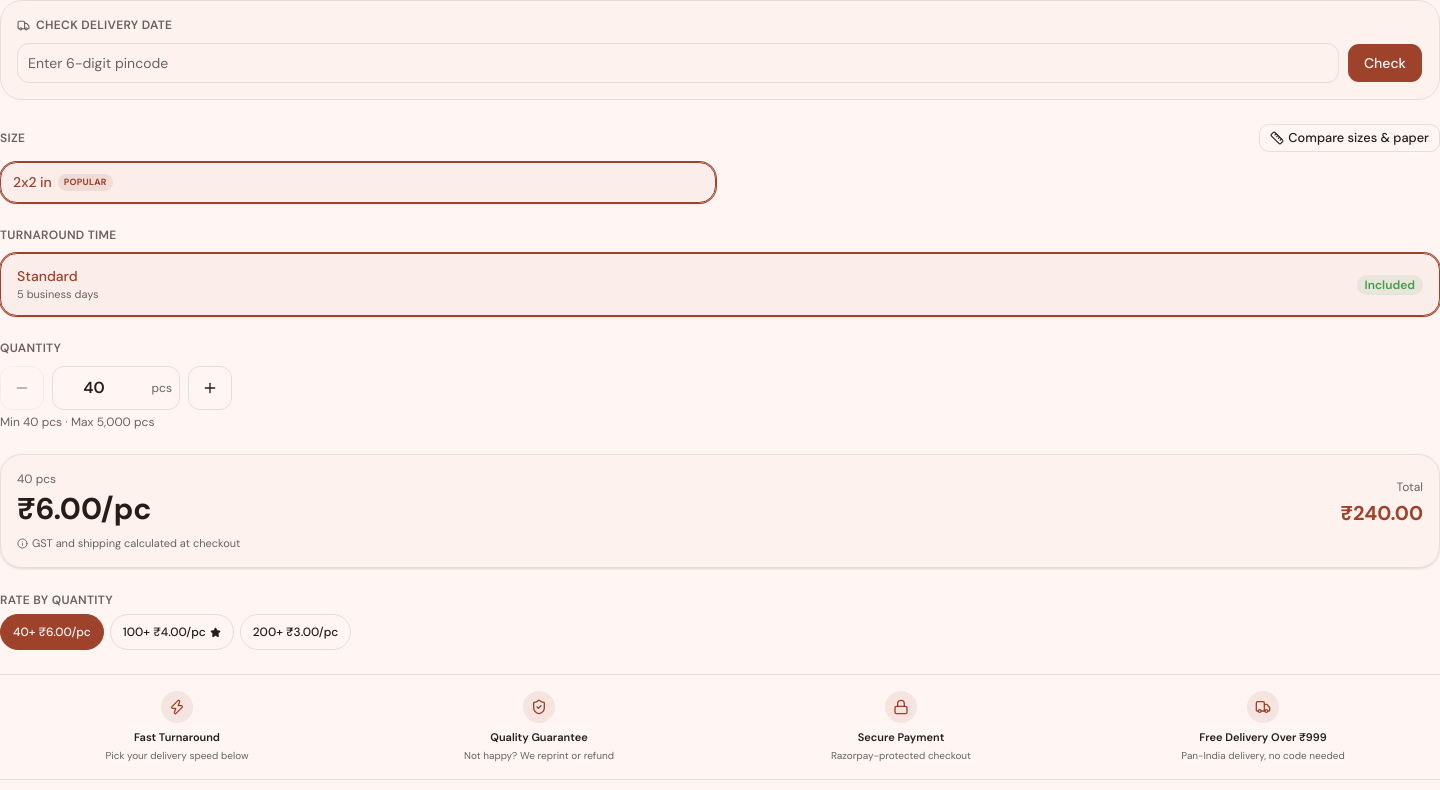
Test case: ProductConfigurator › follows the tier live and the nudge taps up to the next tier
Replace the text in the field named "Quantity" with "99". click: [116, 388]
box: [52,366,180,410]
Wait 150 ms
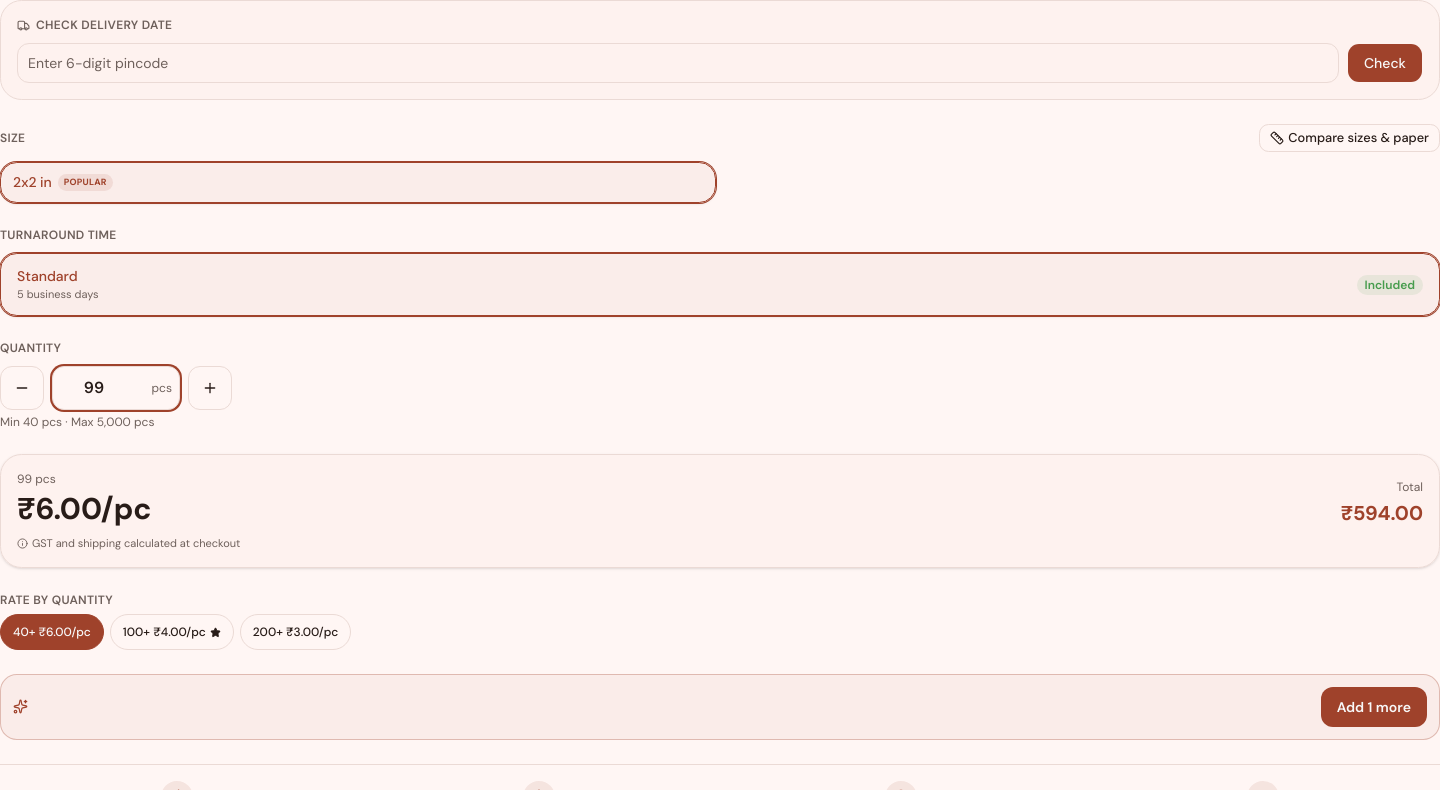
Check: the text "₹594.00" is shown, box [1341,499,1423,527]
Check: the text "Add 1 more pc and pay ₹4.00/pc: ₹400.00 total (you save ₹194.00)" is shown, box [13,697,469,717]
Click the button "Add 1 more". click: [1374, 707]
box: [1321,687,1427,727]
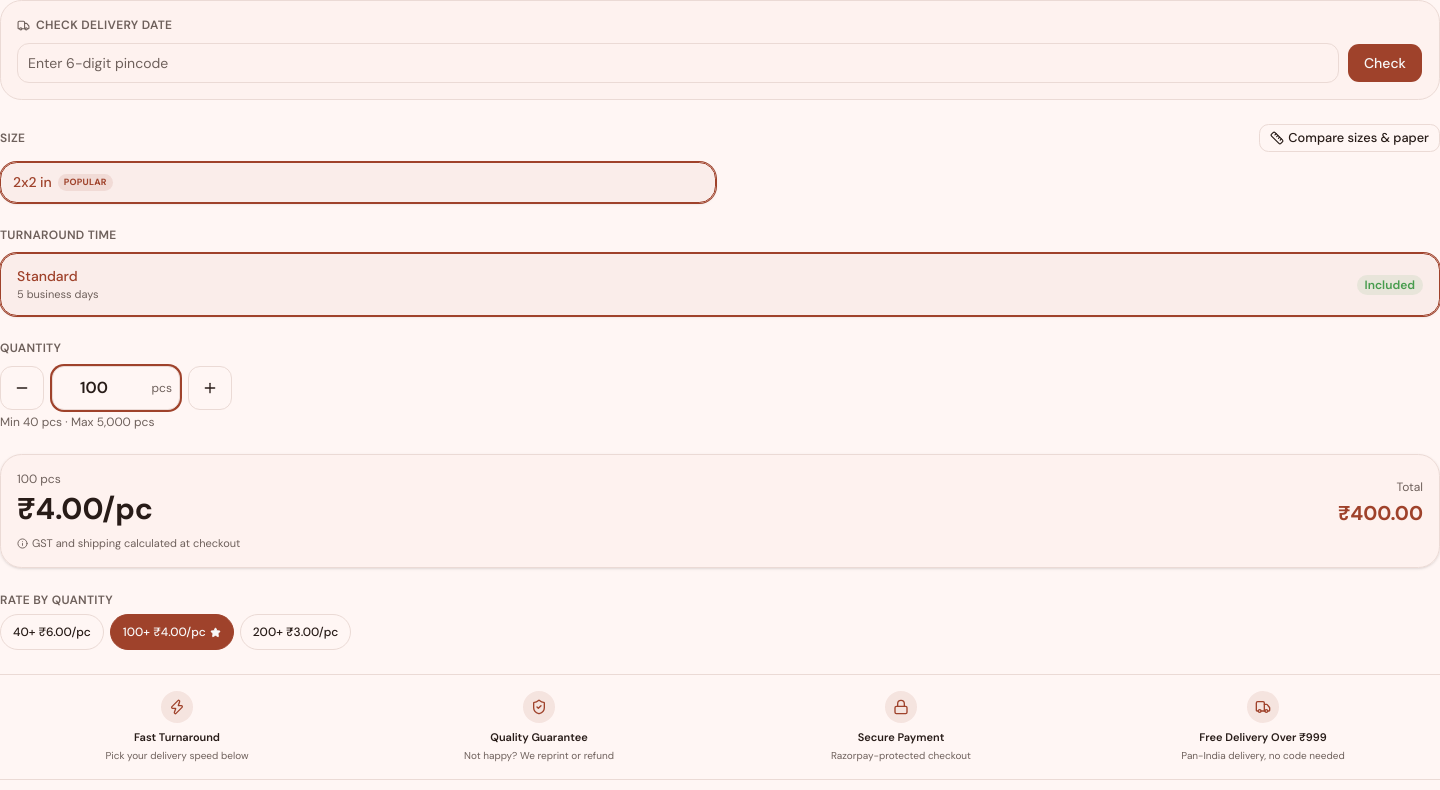
Check: the field named "Quantity" holds "100", box [52,366,180,410]
Check: the text "₹400.00" is shown, box [1338,499,1423,527]
Check: the button "Add 1 more" is gone
